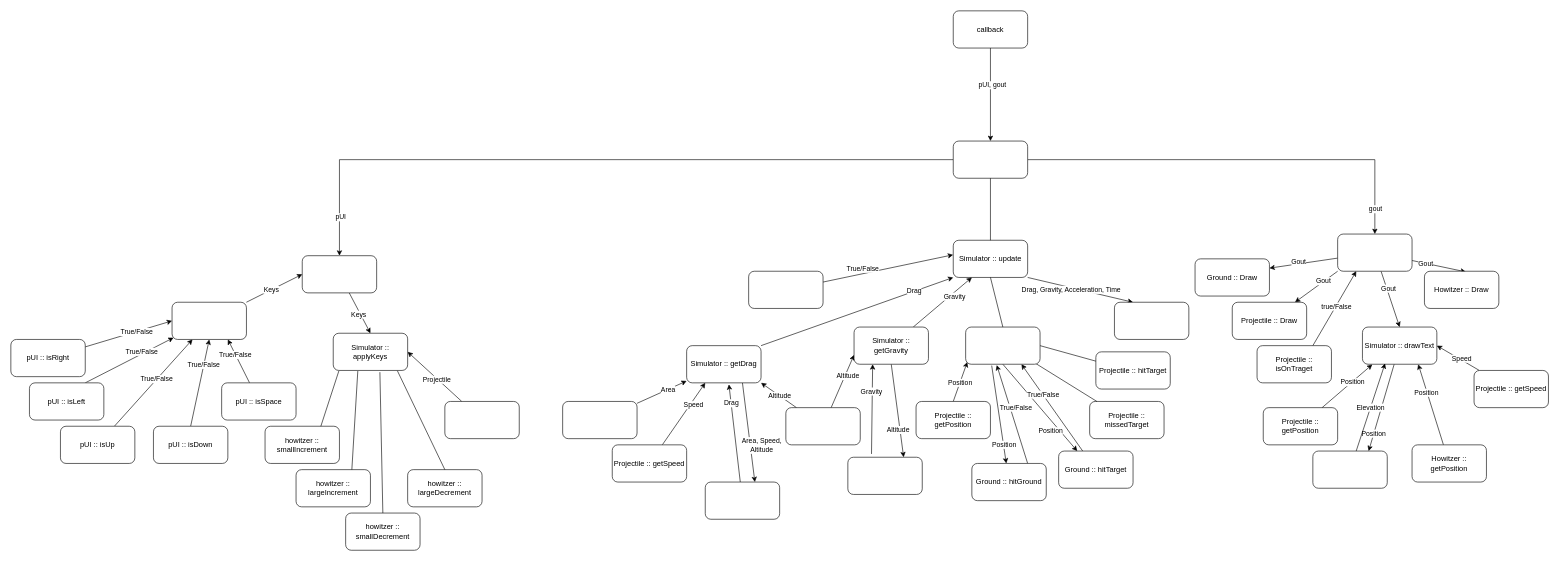
Some shapes in this 1559 by 561 pixel diagram are drawn without their labels. The shapes that lost their labels are listed below. From the top down, each one's box as (x1, y1, x2, y2) in pixels, then its label:
(953, 140, 1028, 178): Simulator :: Run
(1337, 233, 1412, 271): Simulator :: draw
(302, 255, 377, 293): Simulator :: doInput
(748, 271, 823, 308): Projectile :: isFlying
(171, 302, 246, 339): Simulator :: getKeys
(1114, 302, 1189, 339): Projectile :: move
(965, 326, 1040, 364): Simulator :: Check Collisions
(444, 401, 519, 439): howitzer :: fire
(562, 401, 637, 439): Projectile :: getArea
(785, 407, 860, 445): Projectile :: getAltitude
(847, 457, 922, 494): Physics :: getGravity
(1312, 450, 1387, 488): Ground :: getElevation
(705, 481, 780, 519): Physics :: getDragForce
